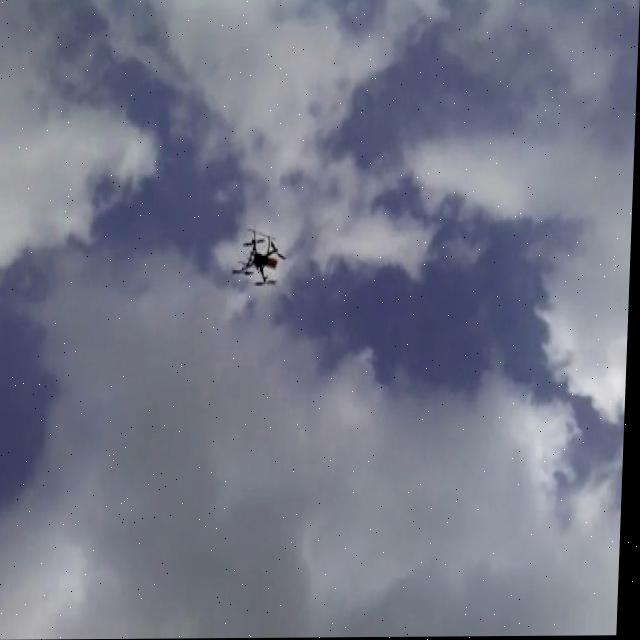drone: (233, 229, 291, 294)
